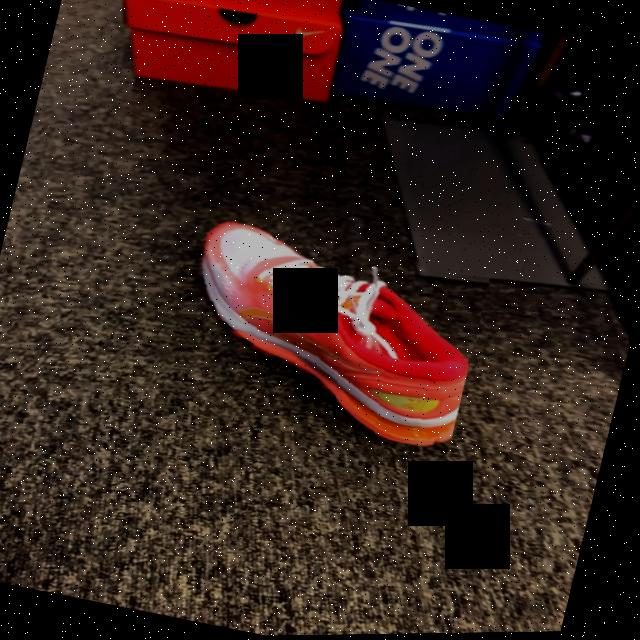shoe: (201, 223, 470, 449)
